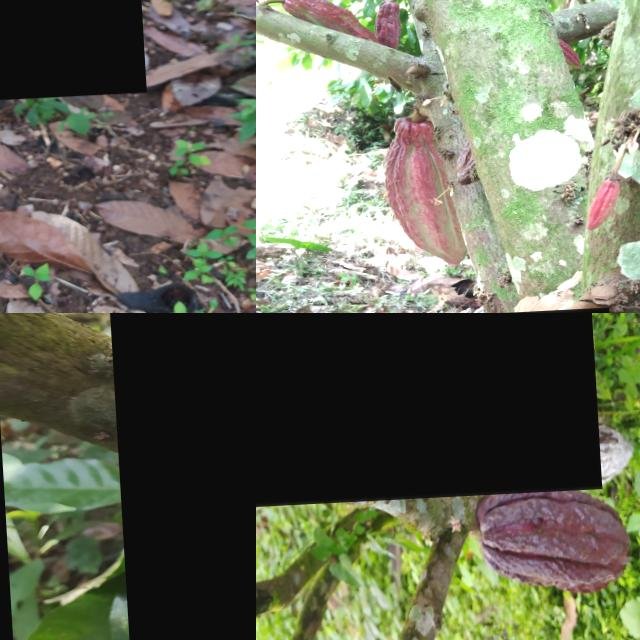Monilia: (105, 313, 256, 640), (0, 0, 142, 108), (507, 425, 632, 497)
Sana: (256, 313, 596, 509), (472, 484, 625, 601), (381, 119, 458, 269), (283, 0, 378, 28), (578, 186, 625, 228), (372, 3, 403, 50)
